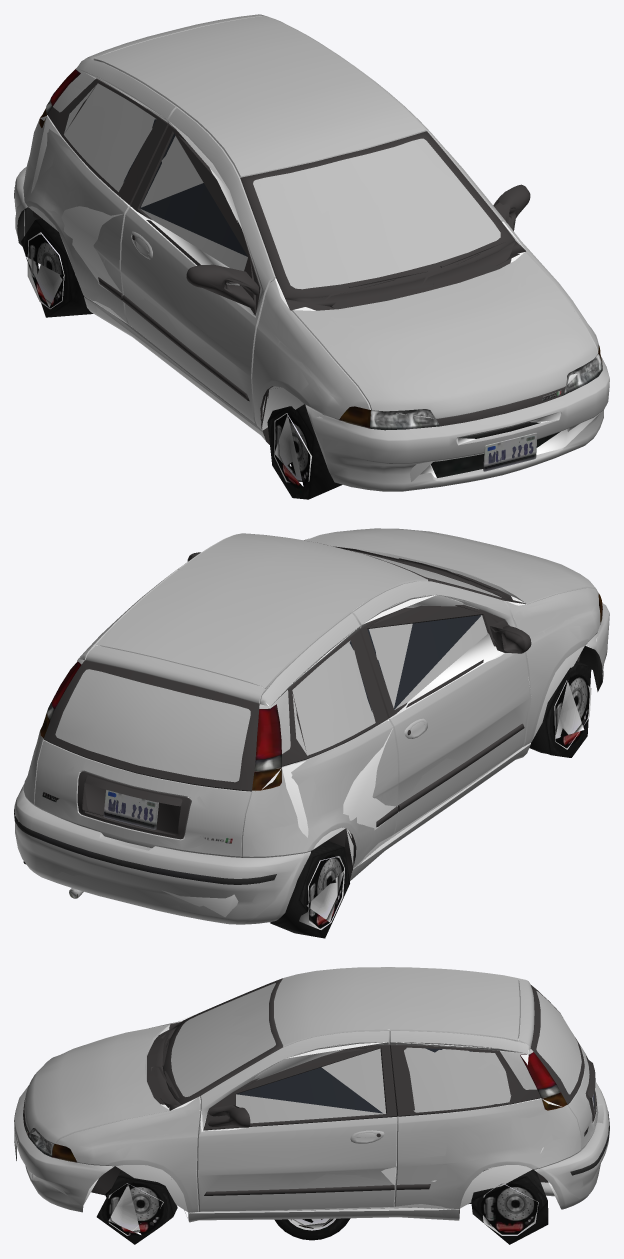
The model's file is milano.glb.
The picture shows the model from 3 angles, top to bottom: view 1: azimuth 30°, elevation 25°; view 2: azimuth 150°, elevation 25°; view 3: azimuth 270°, elevation 25°; orthographic projection. The views are drawn at different scales.
Parts seen in each view (by area): view 1: paint0, glass0, far, paint1, kit0, glass1, kit1; view 2: paint0, far, glass0, paint1, kit0, glass1, kit1; view 3: paint0, paint1, far, glass0, kit0, glass1, kit1, wheel0.
Part boxes in pixels (box(x1,y1,x2,y2)): paint0: box(14, 14, 609, 491); glass0: box(64, 83, 500, 289); far: box(21, 73, 600, 499); paint1: box(16, 14, 609, 488); kit0: box(14, 69, 602, 477); glass1: box(64, 83, 500, 242); kit1: box(24, 71, 601, 474); paint0: box(14, 528, 609, 924); far: box(23, 551, 600, 938); glass0: box(55, 550, 501, 782); paint1: box(16, 528, 609, 923); kit0: box(14, 542, 602, 898); glass1: box(56, 553, 427, 778); kit1: box(19, 551, 602, 898); paint0: box(14, 967, 609, 1221); paint1: box(16, 967, 608, 1222); far: box(14, 1013, 593, 1244); glass0: box(171, 983, 581, 1123); kit0: box(14, 978, 609, 1212); glass1: box(182, 983, 579, 1114); kit1: box(16, 1031, 594, 1218); wheel0: box(274, 1218, 350, 1240).
Bounding box in the file's own units: 1.93 × 1.71 × 3.85.
Materials: 1 (1 with a texture image).
